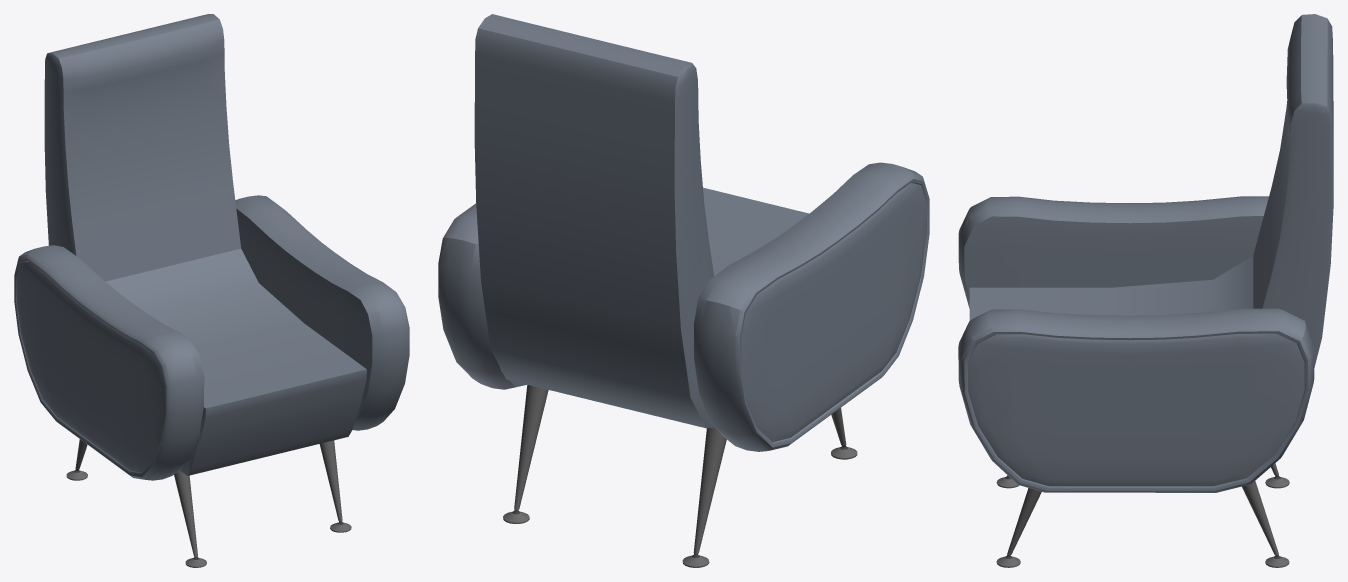
The model's file is sh_scopia_armchair3.glb.
3 views of the same model, side by side, from view 1: azimuth 30°, elevation 25°; view 2: azimuth 150°, elevation 25°; view 3: azimuth 270°, elevation 25° (orthographic). The views are drawn at different scales.
Bounding box in the file's own units: 0.591 × 0.949 × 0.694.
